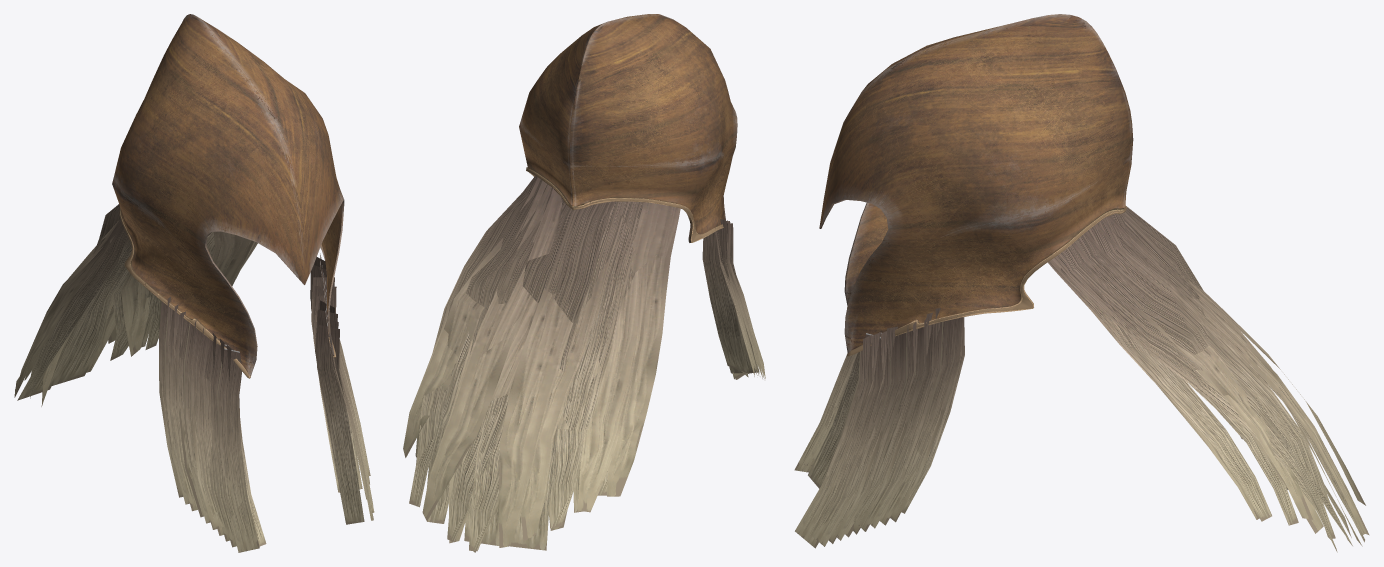
The model's file is mkwd_inf3_t1_helmet_gold_hc.fbx.
The picture shows the model from 3 angles, left to right: view 1: azimuth 30°, elevation 25°; view 2: azimuth 150°, elevation 25°; view 3: azimuth 270°, elevation 25°; orthographic projection. The views are drawn at different scales.
Visible parts, largest first — view 1: mkwd_inf3_t1_helmet_gold_hc.lod0.0, mkwd_inf3_t1_helmet_gold_hc.lod0.1; view 2: mkwd_inf3_t1_helmet_gold_hc.lod0.1, mkwd_inf3_t1_helmet_gold_hc.lod0.0; view 3: mkwd_inf3_t1_helmet_gold_hc.lod0.0, mkwd_inf3_t1_helmet_gold_hc.lod0.1.
Part boxes in pixels (left/top/right/bottom): mkwd_inf3_t1_helmet_gold_hc.lod0.0: left=112, top=14, right=344, bottom=378; mkwd_inf3_t1_helmet_gold_hc.lod0.1: left=14, top=204, right=374, bottom=552; mkwd_inf3_t1_helmet_gold_hc.lod0.1: left=403, top=175, right=765, bottom=552; mkwd_inf3_t1_helmet_gold_hc.lod0.0: left=519, top=14, right=737, bottom=242; mkwd_inf3_t1_helmet_gold_hc.lod0.0: left=819, top=14, right=1133, bottom=356; mkwd_inf3_t1_helmet_gold_hc.lod0.1: left=794, top=206, right=1369, bottom=552.
Size of the model in its own units: 0.239 by 0.4828 by 0.482.
2 materials, 2 textured.
